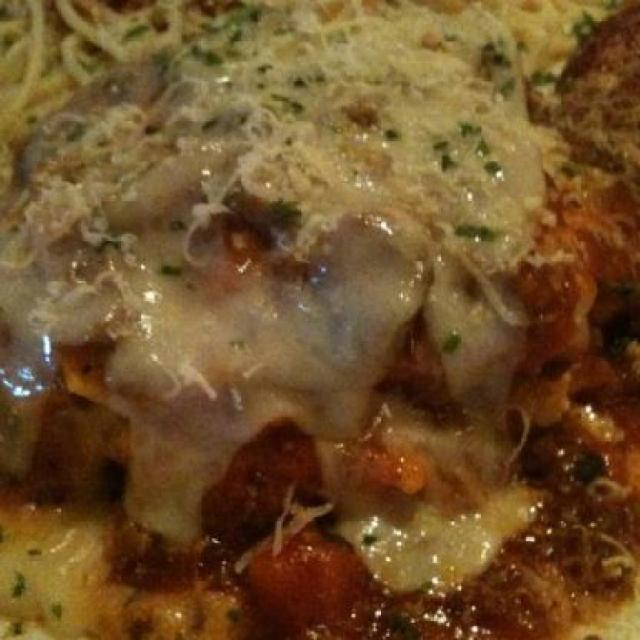Lasagna: (59, 165, 610, 586)
